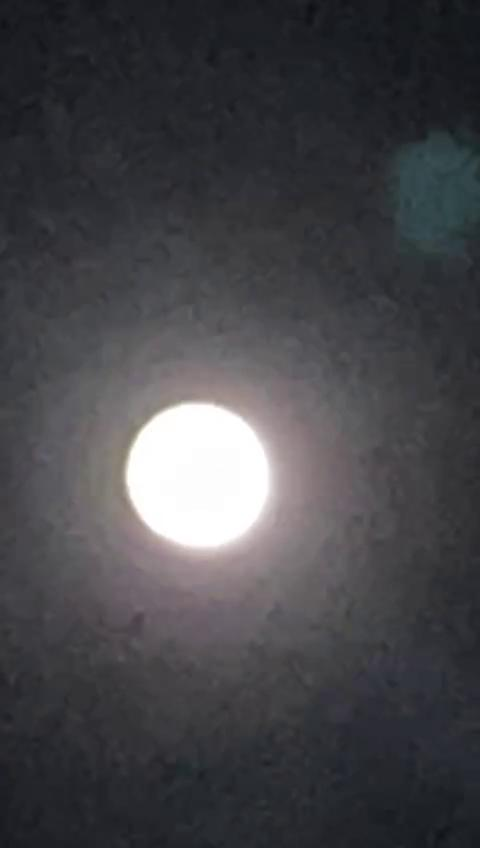moon: (112, 385, 280, 576)
